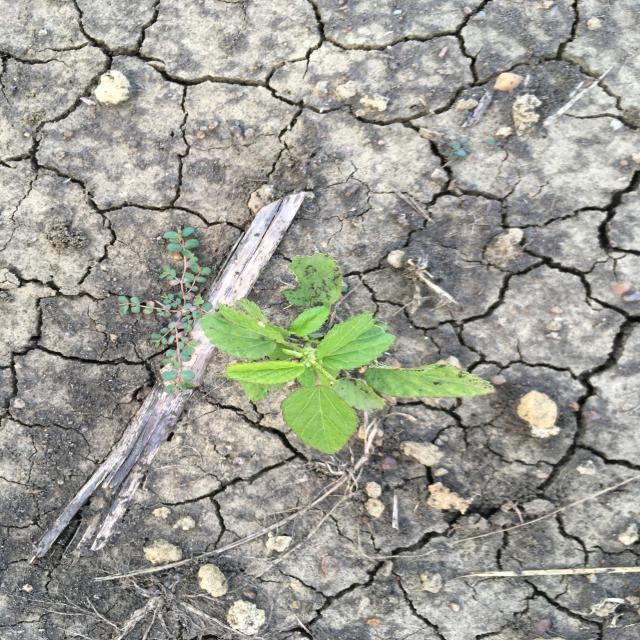PricklySida: (196, 251, 500, 457)
SpottedSpurge: (109, 224, 215, 397), (445, 136, 503, 161)
